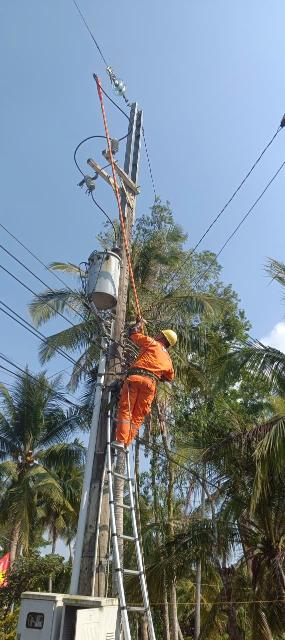gloves: (130, 313, 145, 338)
harness: (124, 362, 164, 385)
helmet: (160, 326, 181, 348)
shoes: (105, 437, 126, 454)
